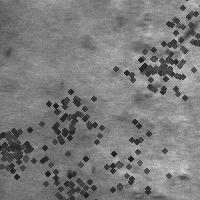rolled-in_scale: (68, 105, 182, 200), (18, 71, 118, 171), (111, 17, 200, 115), (138, 0, 200, 78), (27, 142, 105, 200), (126, 8, 181, 58), (0, 114, 40, 178), (117, 77, 166, 127), (123, 165, 193, 199)
